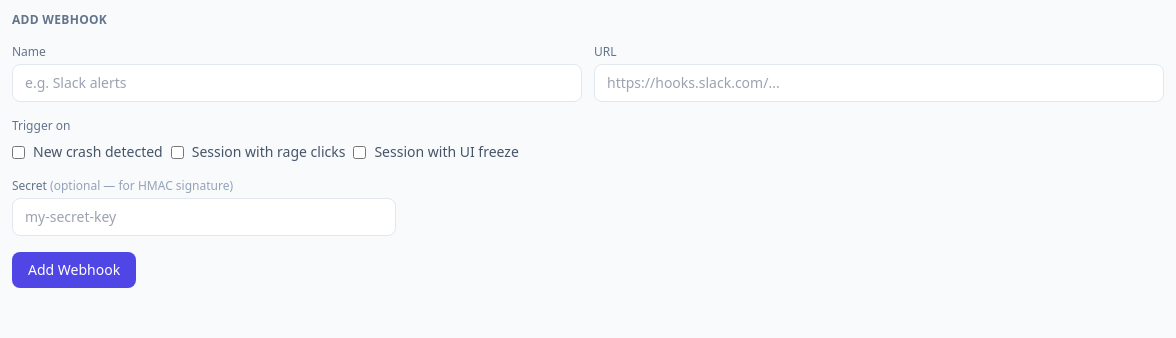
Test: WebhookForm › shows error when no events selected
Step 1. Type "Slack" into the field with test id "webhook-name-input" → (297, 83), box [12,64,582,102]
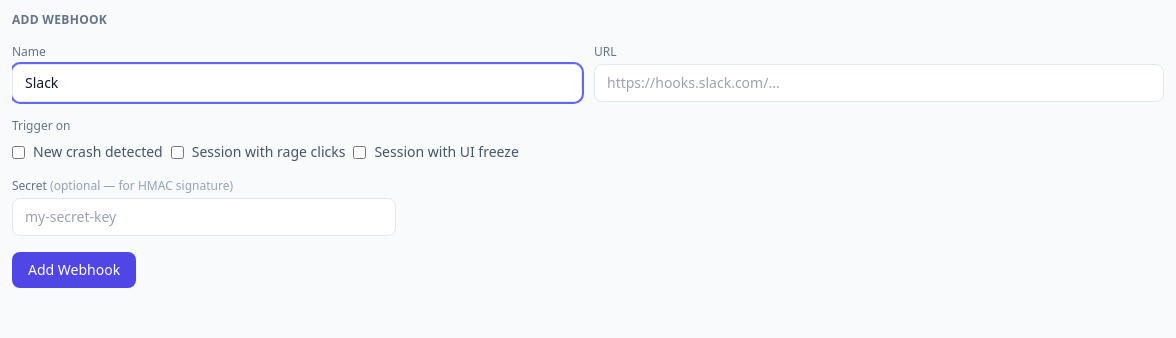
Step 2. Type "https://example.com" into the field with test id "webhook-url-input" → (879, 83), box [594,64,1164,102]
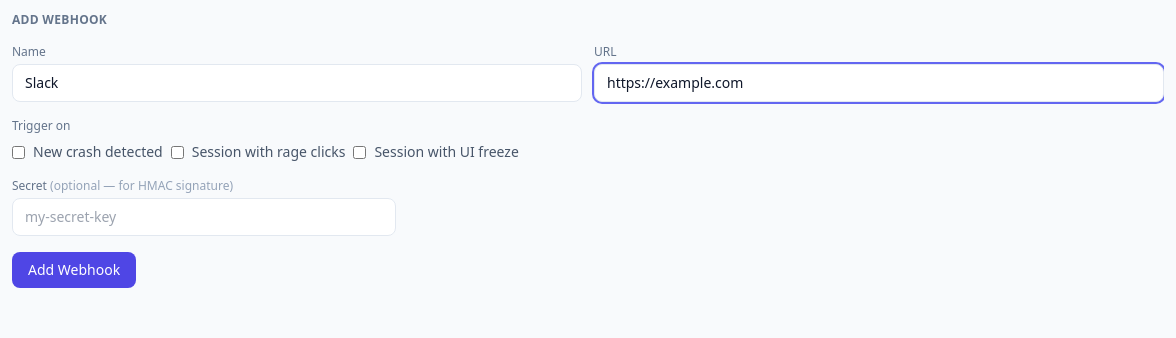
Step 3. Click the button with test id "webhook-save-button" → (74, 270), box [12,252,136,288]
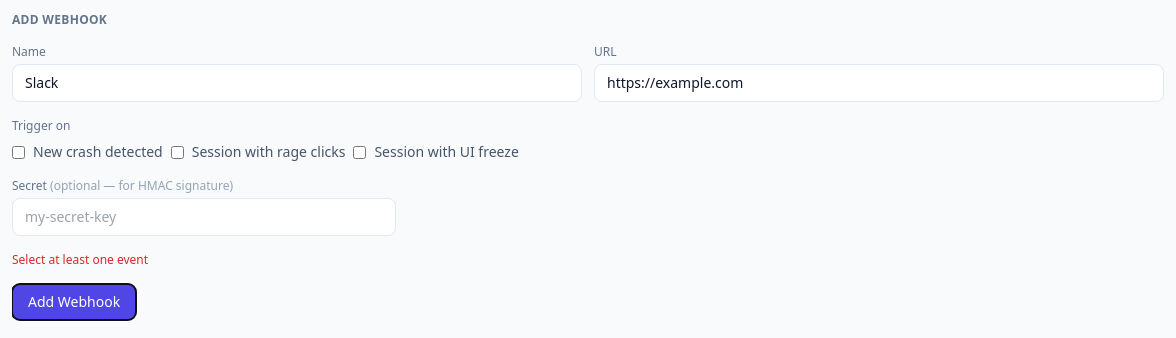
Check: the text with test id "webhook-error" shows "event", box [12,251,148,268]
